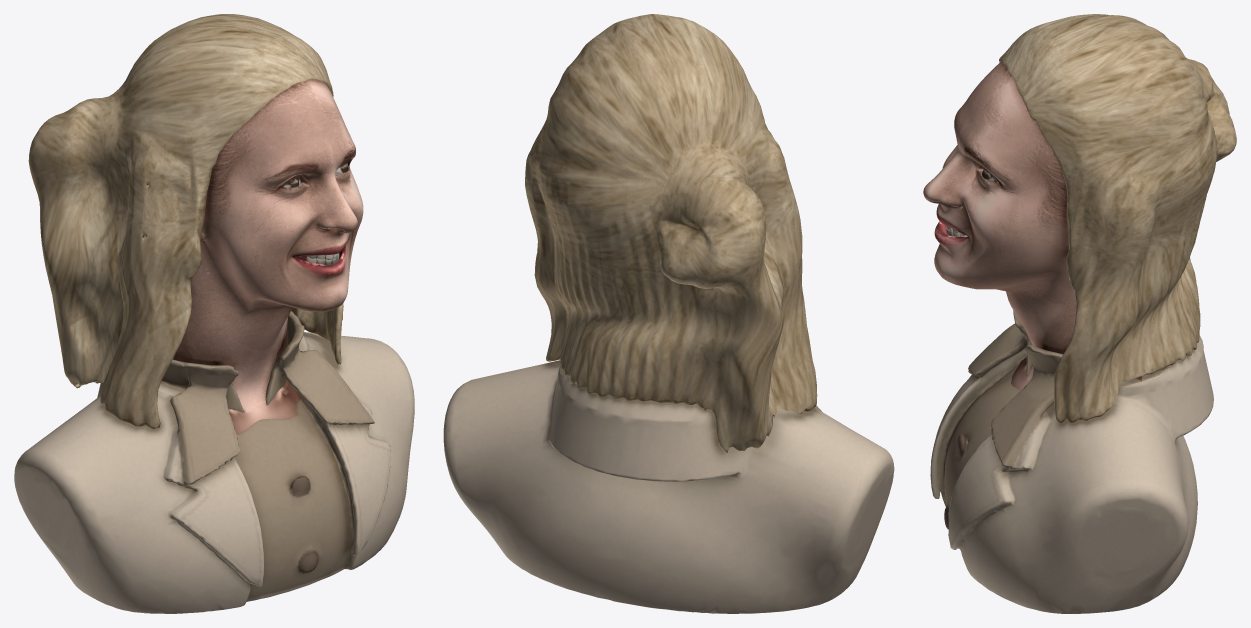
File: eva_peron.glb
3 renders of one model, left to right at view 1: azimuth 30°, elevation 25°; view 2: azimuth 150°, elevation 25°; view 3: azimuth 270°, elevation 25°, orthographic. The views are drawn at different scales.
Visible parts, largest first — view 1: coat, hair, skin; view 2: hair, coat; view 3: coat, hair, skin.
Boxes of the visible parts, box(x1,y1,x2,y2) form: coat: box(14, 311, 414, 613); hair: box(28, 14, 343, 429); skin: box(173, 78, 363, 434); hair: box(525, 14, 817, 452); coat: box(443, 360, 894, 613); coat: box(930, 310, 1213, 613); hair: box(999, 14, 1236, 422); skin: box(923, 61, 1141, 390).
Bounding box in the file's own units: 0.3717 × 0.4751 × 0.2587.
Materials: 5 (5 with a texture image).
